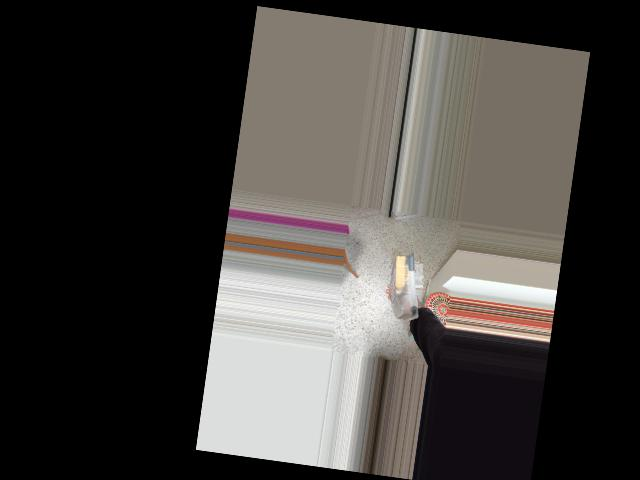cheese: (384, 252, 429, 325)
